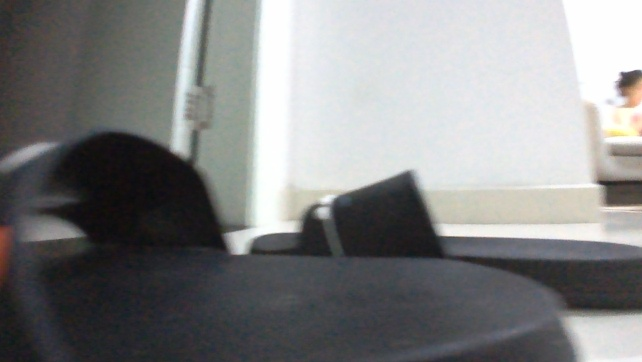door_anno: (63, 0, 266, 235)
slipper: (0, 120, 594, 361), (248, 165, 641, 314)
